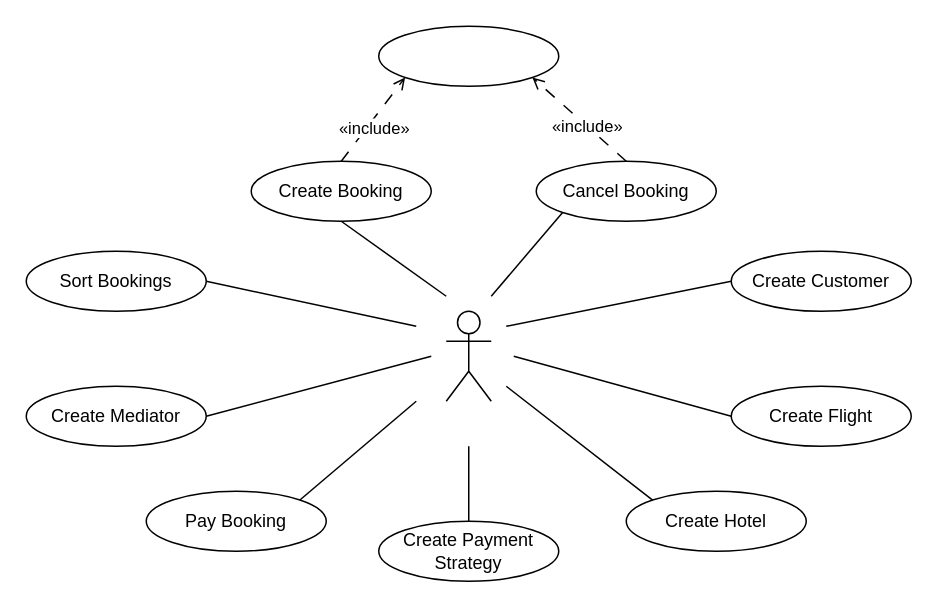
This 938x608 diagram has some shape labels left out. Each missing label, with the centre of its shape:
"Notify Customers" goes at point 468,55.
"User" goes at point 468,355.
